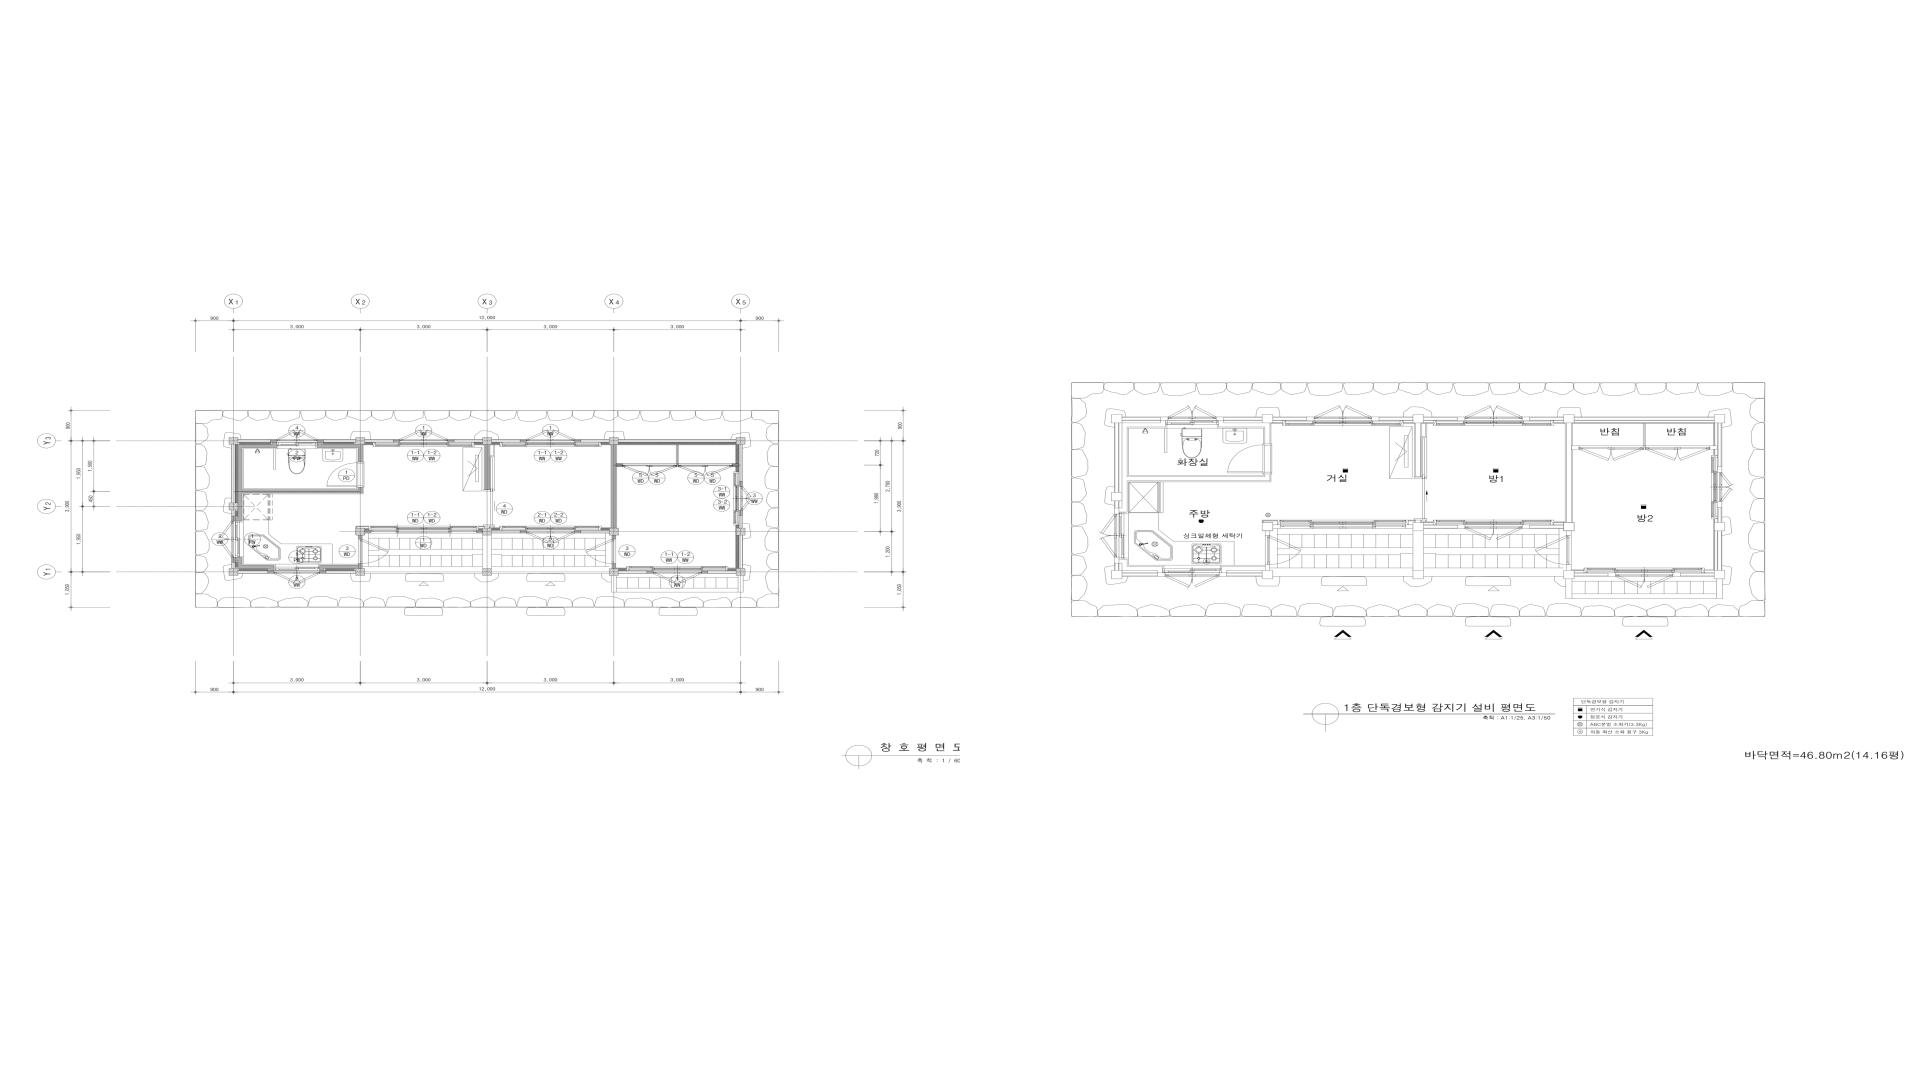door: (326, 462, 363, 488), (359, 539, 389, 563), (585, 539, 616, 563), (679, 463, 732, 476), (622, 464, 676, 476)
wall: (237, 439, 277, 489), (316, 439, 363, 462), (1114, 558, 1166, 576), (243, 488, 363, 493), (231, 558, 274, 571), (618, 439, 736, 443), (1220, 567, 1265, 576), (231, 489, 243, 521), (612, 444, 616, 527), (319, 566, 359, 574), (485, 444, 489, 491), (232, 444, 235, 502), (738, 444, 742, 481), (1226, 572, 1262, 576), (1122, 572, 1158, 576), (1680, 572, 1714, 576), (1530, 525, 1564, 529), (237, 439, 270, 443), (323, 439, 356, 443), (738, 535, 742, 568), (1424, 525, 1457, 529), (455, 439, 483, 443), (492, 439, 520, 443), (582, 439, 609, 443), (1412, 522, 1424, 531), (1714, 522, 1725, 531), (1564, 522, 1575, 531), (1262, 522, 1273, 531), (1575, 574, 1609, 576), (1714, 571, 1725, 579), (1564, 571, 1575, 579), (1262, 571, 1273, 579), (1112, 571, 1122, 579), (237, 571, 268, 574), (618, 571, 647, 574), (609, 568, 618, 576), (609, 527, 618, 535), (582, 530, 609, 533), (492, 530, 520, 533), (356, 527, 365, 535), (356, 568, 365, 576), (365, 439, 393, 442), (736, 527, 745, 535), (708, 571, 736, 574), (736, 568, 745, 576), (229, 568, 237, 576), (229, 502, 237, 510), (483, 529, 492, 535), (229, 438, 239, 444), (356, 438, 365, 444), (483, 438, 492, 444), (609, 438, 618, 444), (736, 438, 745, 444), (738, 516, 742, 529), (1567, 564, 1572, 571), (1265, 564, 1270, 571), (1673, 572, 1681, 576), (1522, 525, 1530, 529), (1457, 525, 1465, 529), (1273, 525, 1280, 529), (1114, 563, 1118, 571), (393, 439, 400, 443), (448, 439, 455, 443), (520, 439, 526, 443), (575, 439, 582, 443), (1609, 572, 1615, 576), (1406, 525, 1412, 529), (612, 563, 616, 568), (359, 563, 363, 568), (738, 481, 742, 487), (738, 510, 742, 516), (231, 510, 235, 516), (231, 563, 235, 568), (1567, 531, 1572, 535), (1265, 531, 1270, 535), (575, 530, 582, 533), (520, 530, 526, 533), (476, 530, 483, 533), (365, 530, 372, 533), (268, 571, 274, 574), (702, 571, 708, 574), (647, 571, 654, 574), (612, 535, 616, 539), (359, 535, 363, 539)
window: (368, 526, 479, 534), (400, 430, 448, 442), (526, 531, 575, 543), (219, 521, 233, 558), (373, 442, 475, 447), (526, 430, 575, 440), (654, 572, 702, 583), (274, 572, 319, 583), (277, 429, 316, 440), (500, 443, 601, 447), (626, 567, 728, 571), (500, 526, 601, 530), (235, 521, 240, 558), (274, 567, 319, 571), (277, 442, 316, 446)
